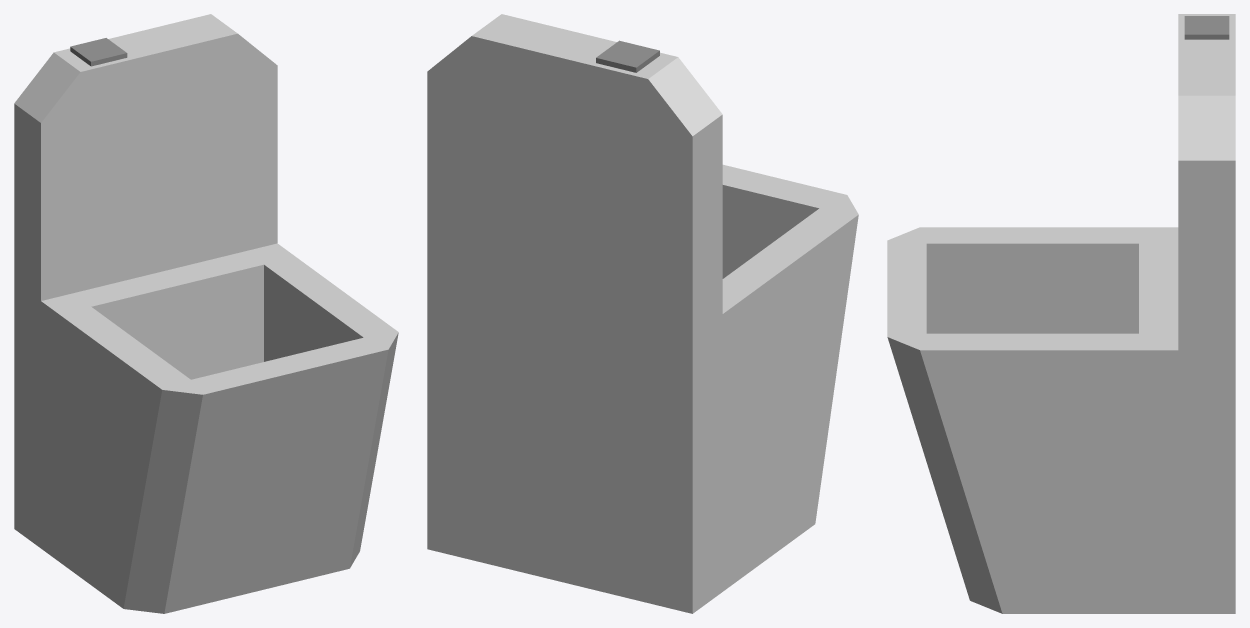
File: toilet.fbx
The picture shows the model from 3 angles, left to right: view 1: azimuth 30°, elevation 25°; view 2: azimuth 150°, elevation 25°; view 3: azimuth 270°, elevation 25°; orthographic projection. The views are drawn at different scales.
Visible parts, largest first — view 1: Cube; view 2: Cube; view 3: Cube.
Boxes of the visible parts, box(x1,y1,x2,y2) form: Cube: box(14, 14, 398, 613); Cube: box(427, 14, 858, 613); Cube: box(887, 14, 1235, 613).
Size of the model in its own units: 200 by 381 by 239.
